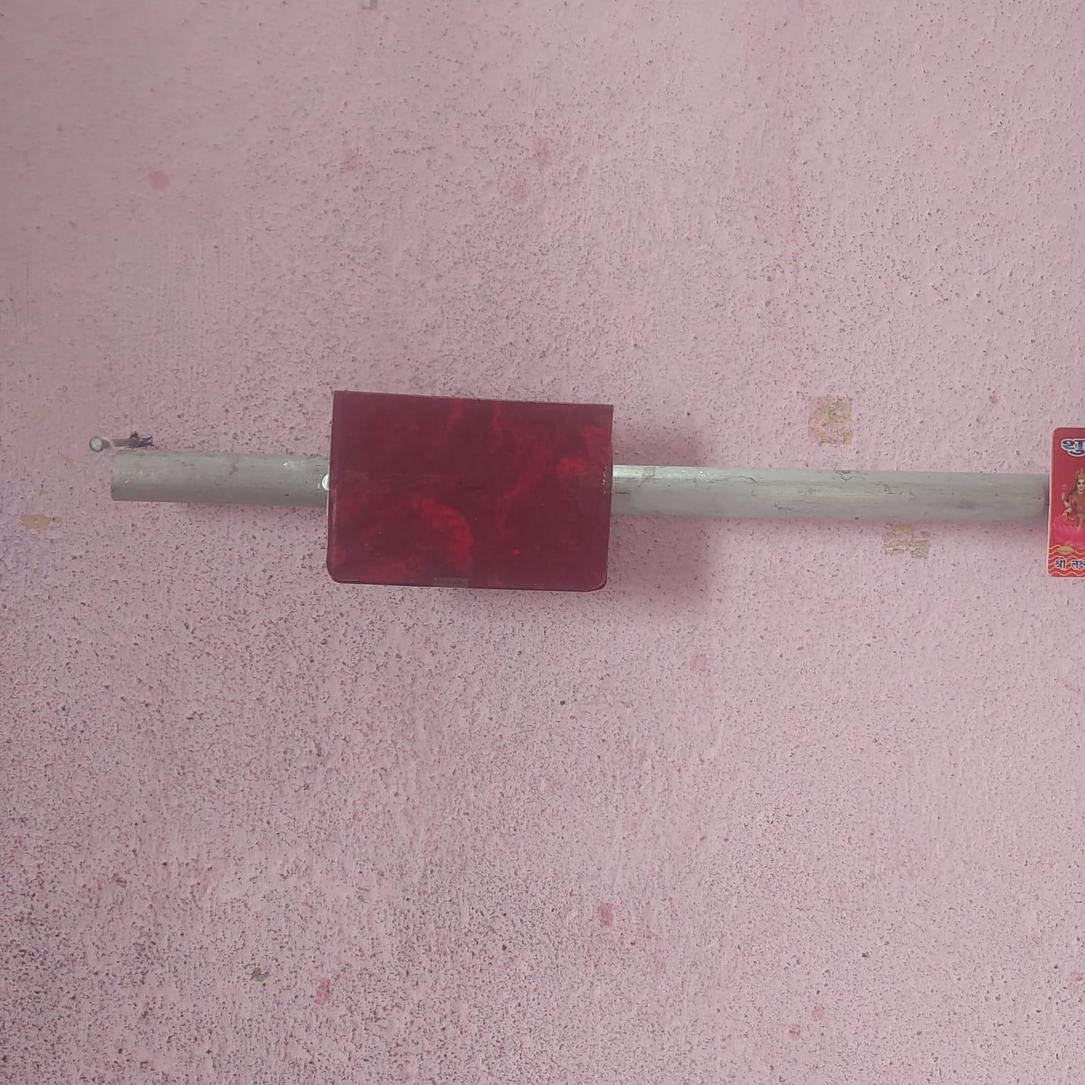wallet: (328, 384, 618, 590)
